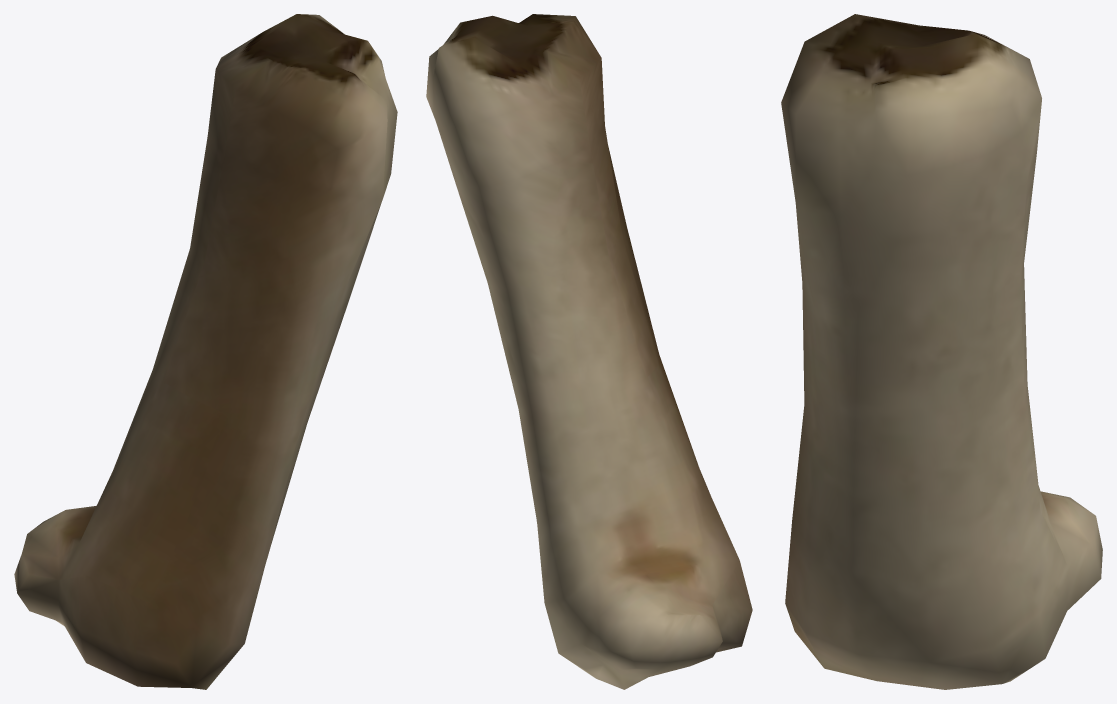
Rendered from Metacarpal_I.glb.
The picture shows the model from 3 angles, left to right: view 1: azimuth 30°, elevation 25°; view 2: azimuth 150°, elevation 25°; view 3: azimuth 270°, elevation 25°; orthographic projection. The views are drawn at different scales.
Visible parts, largest first — view 1: Metacarpal_I_Right1:Group2137; view 2: Metacarpal_I_Right1:Group2137; view 3: Metacarpal_I_Right1:Group2137.
Boxes of the visible parts, box(x1,y1,x2,y2) form: Metacarpal_I_Right1:Group2137: box(14, 14, 397, 689); Metacarpal_I_Right1:Group2137: box(426, 14, 752, 689); Metacarpal_I_Right1:Group2137: box(781, 14, 1102, 689).
Bounding box in the file's own units: 10.74 × 18.88 × 7.46.
Materials: 1 (1 with a texture image).
